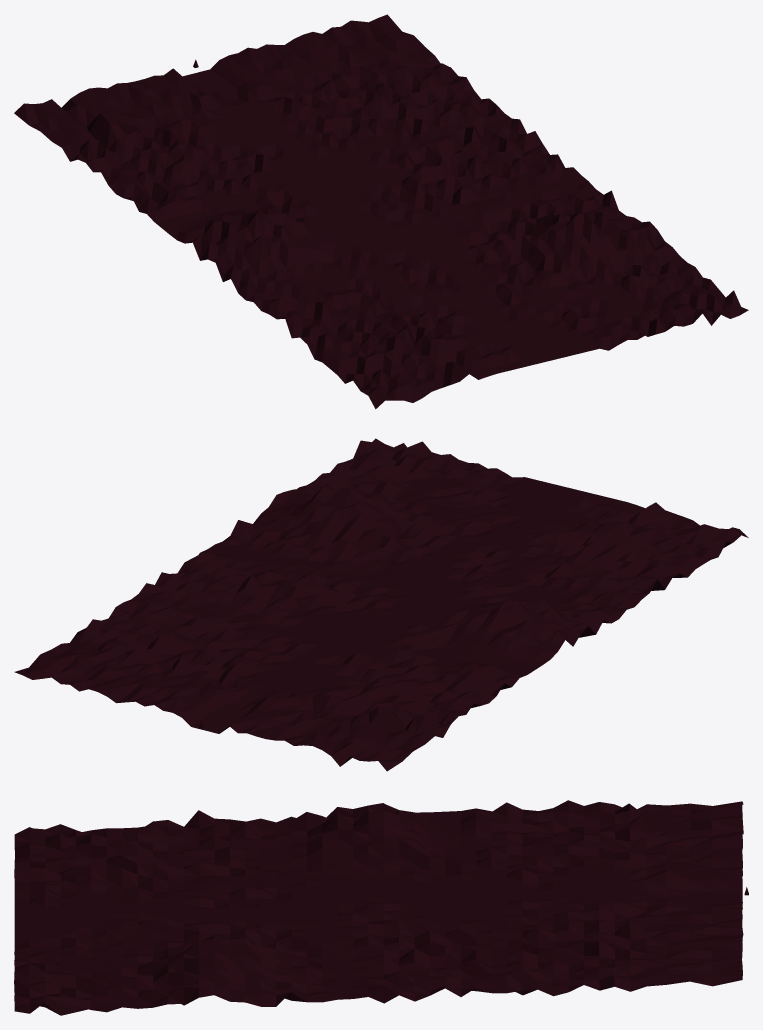
The model's file is Ex_Backdrop.FBX.
The picture shows the model from 3 angles, top to bottom: view 1: azimuth 30°, elevation 25°; view 2: azimuth 150°, elevation 25°; view 3: azimuth 270°, elevation 25°; orthographic projection.
Parts seen in each view (by area): view 1: Ex_Backdrop; view 2: Ex_Backdrop; view 3: Ex_Backdrop.
Part boxes in pixels (x1,y1,x2,y2): Ex_Backdrop: [14, 14, 748, 409]; Ex_Backdrop: [14, 438, 748, 771]; Ex_Backdrop: [14, 800, 748, 1015].
Bounding box in the file's own units: 100016 × 14355 × 169334.
